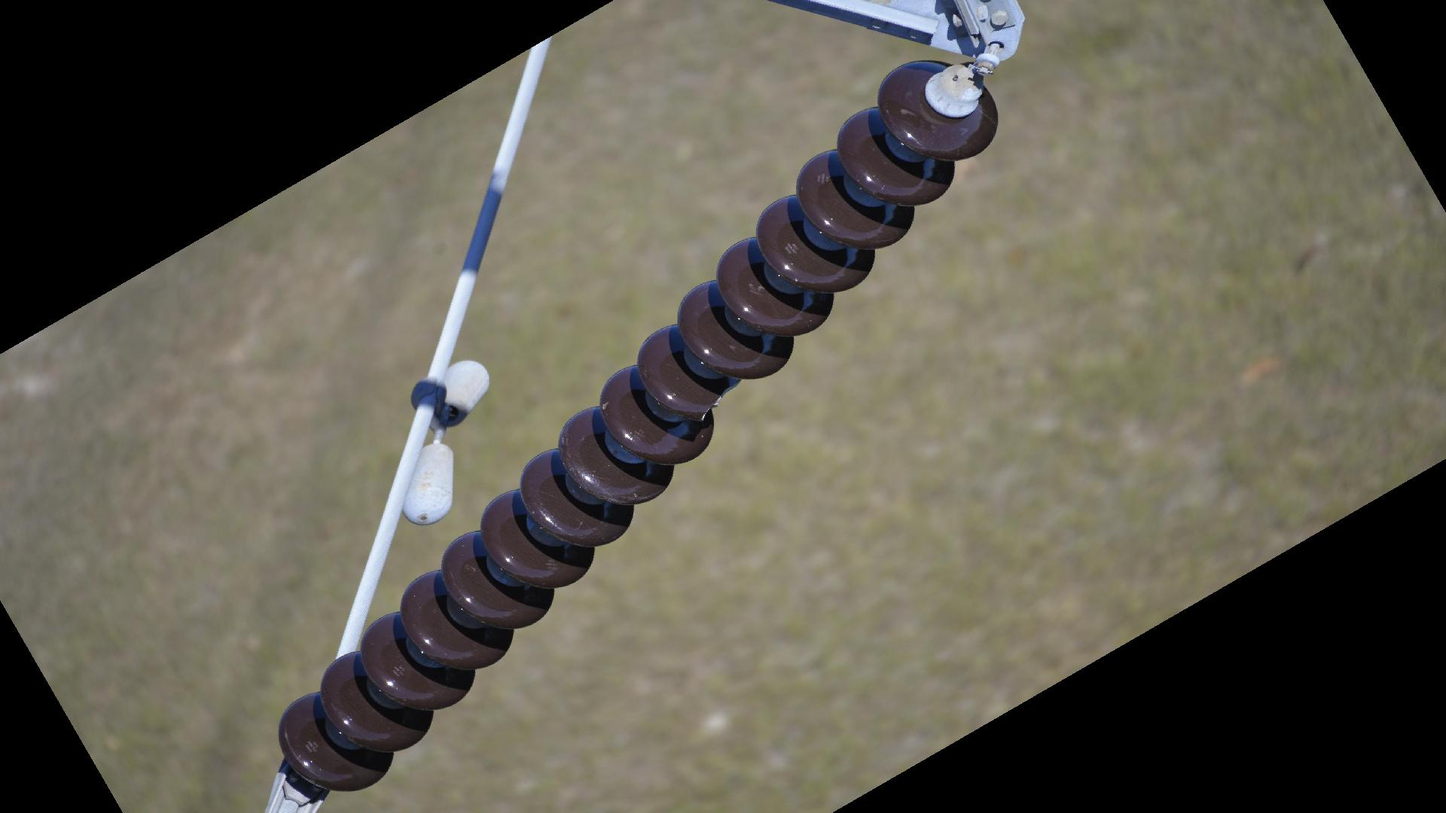insulator: (270, 53, 1003, 799)
insulator_breakage: (697, 376, 743, 423)
